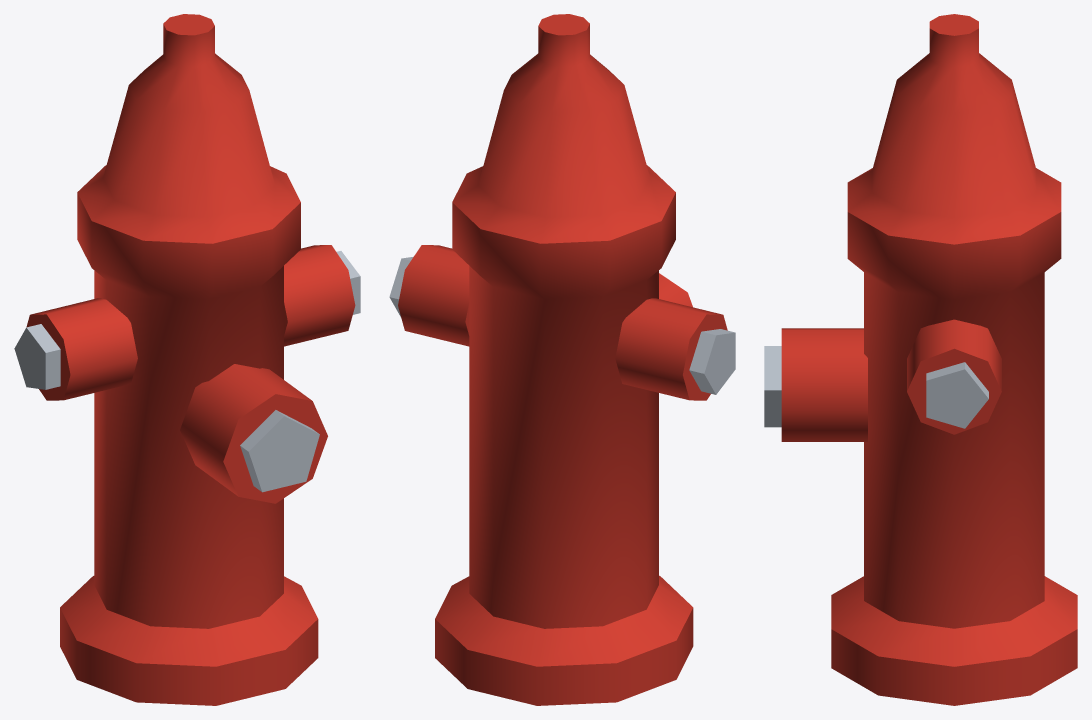
File: fire_hydrant.glb
3 renders of one model, left to right at view 1: azimuth 30°, elevation 25°; view 2: azimuth 150°, elevation 25°; view 3: azimuth 270°, elevation 25°, orthographic.
Parts seen in each view (by area): view 1: fire_hydrant; view 2: fire_hydrant; view 3: fire_hydrant.
Part boxes in pixels (x1=…): fire_hydrant: x1=14, y1=14, x2=360, y2=705; fire_hydrant: x1=389, y1=14, x2=735, y2=705; fire_hydrant: x1=764, y1=14, x2=1077, y2=705.
Size of the model in its own units: 0.42 by 0.8 by 0.3627.
